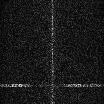wifi: (1, 83, 104, 86)
